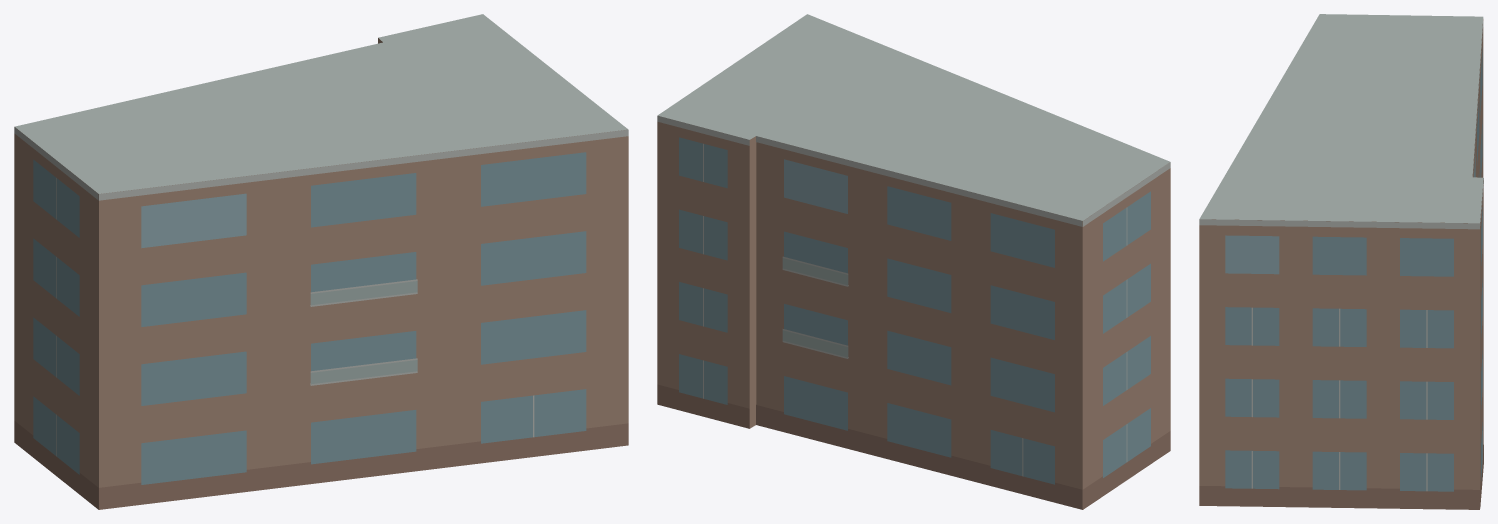
The model's file is survey-upis-32867947.glb.
3 renders of one model, left to right at view 1: azimuth 30°, elevation 25°; view 2: azimuth 150°, elevation 25°; view 3: azimuth 270°, elevation 25°, orthographic. The views are drawn at different scales.
Parts seen in each view (by area): view 1: survey-upis-32867947.tmp; view 2: survey-upis-32867947.tmp; view 3: survey-upis-32867947.tmp.
Boxes of the visible parts, bbox=[...] form: survey-upis-32867947.tmp: bbox=[14, 14, 628, 509]; survey-upis-32867947.tmp: bbox=[657, 14, 1170, 509]; survey-upis-32867947.tmp: bbox=[1199, 14, 1483, 509].
Size of the model in its own units: 18.18 by 11.6 by 10.44.
